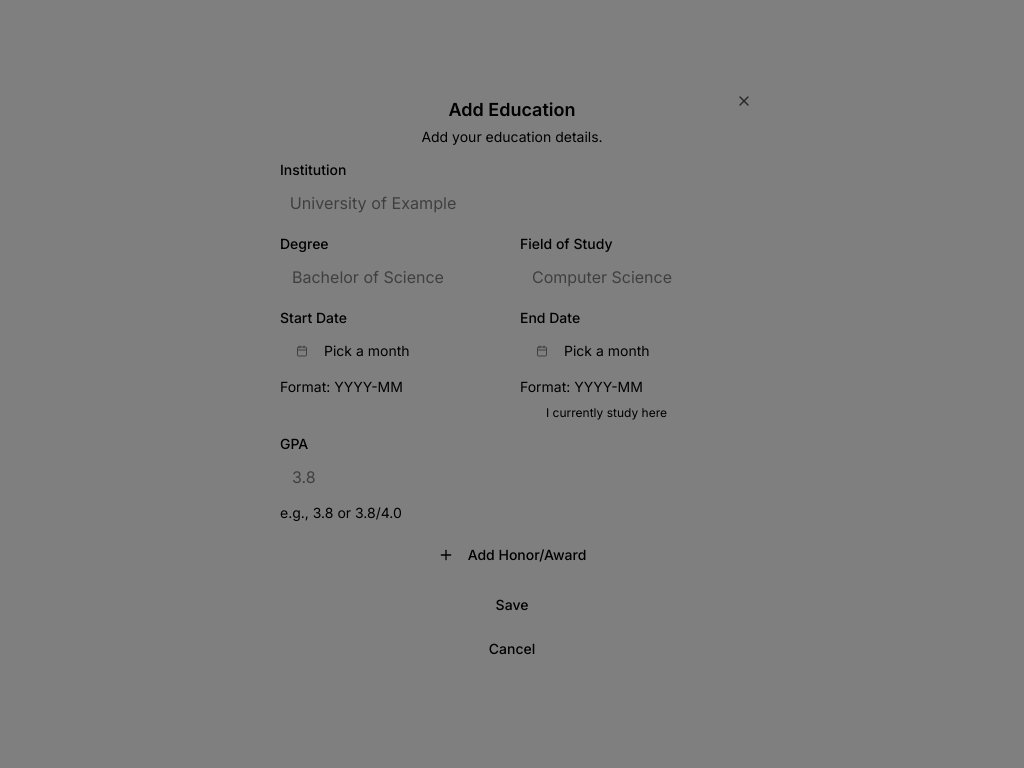
EducationFormDialog › Honors Management › allows removing honors
Click the button "Add Honor/Award": click(512, 555) [280,539,744,571]
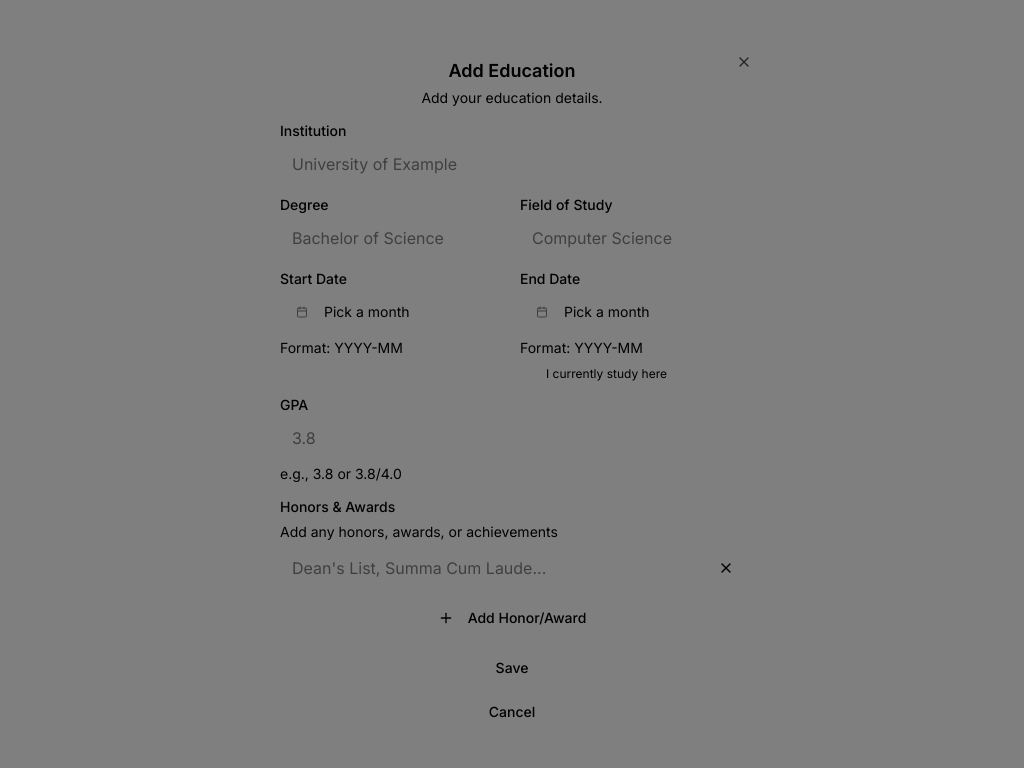
Click the button "Add Honor/Award": click(512, 618) [280,602,744,634]
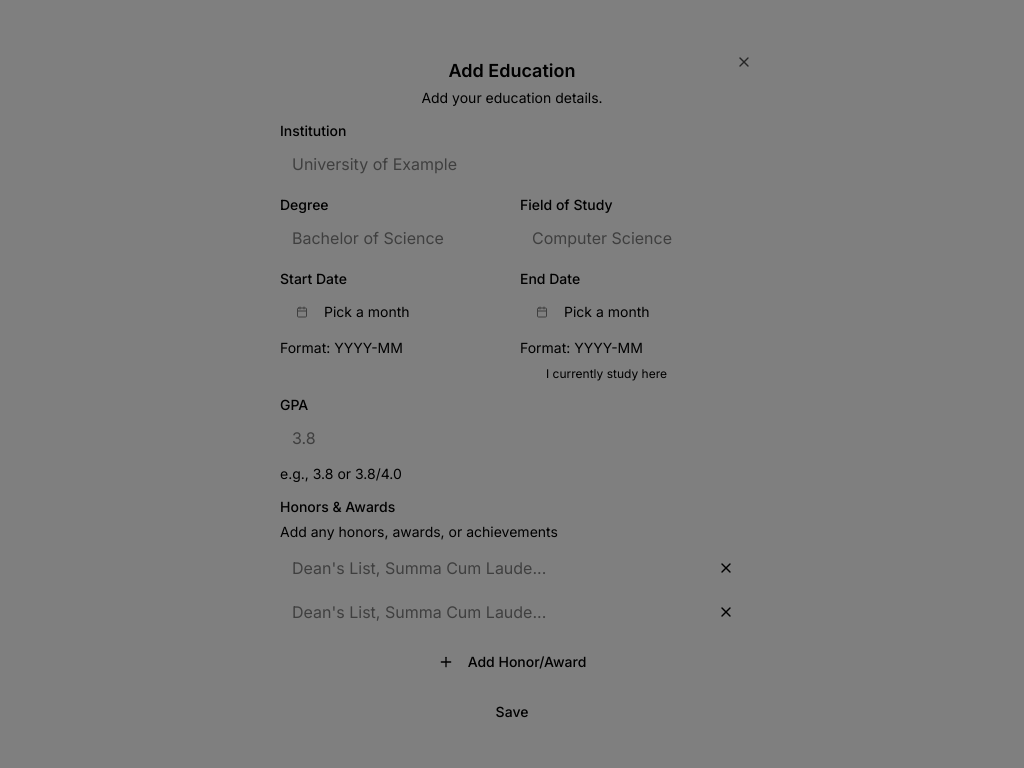
Check: the number of fields with placeholder "Dean's List, Summa Cum Laude..." is 2, box [280,550,700,586]; [280,594,700,630]
Click the 4th button: click(726, 568) [708,550,744,586]
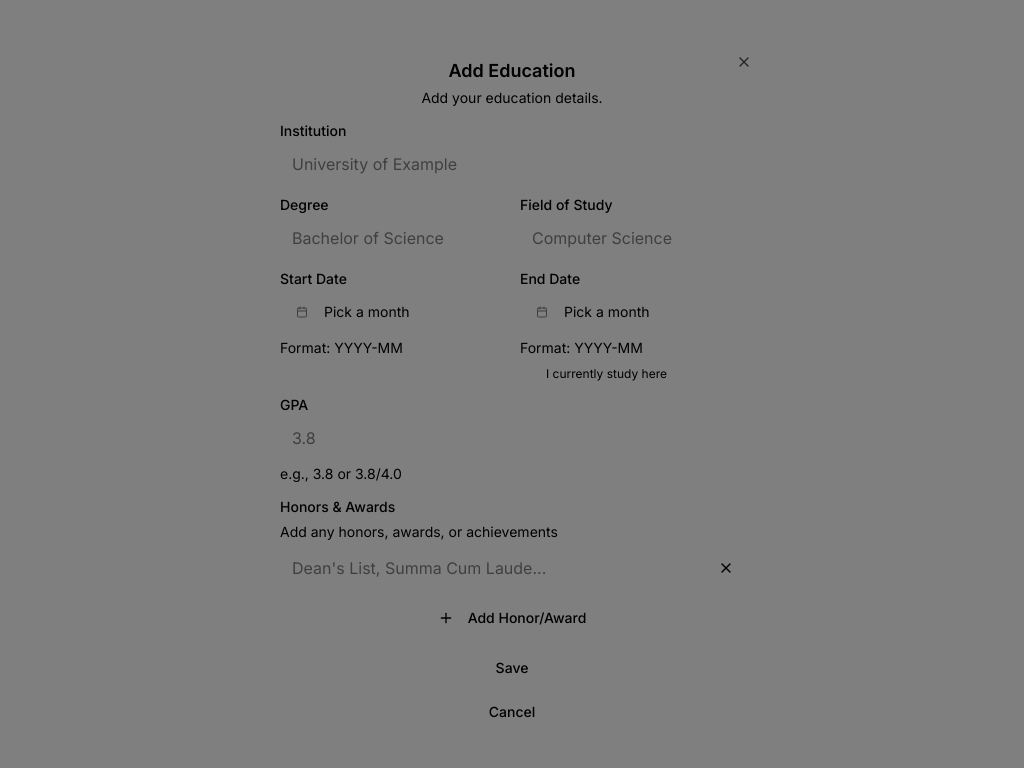
Check: the number of fields with placeholder "Dean's List, Summa Cum Laude..." is 1, box [280,550,700,586]
